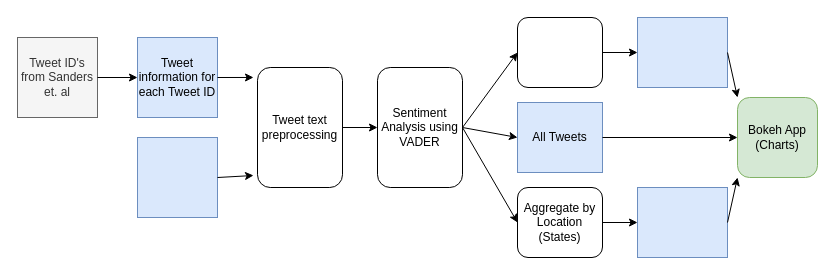
The diagram is 835 pixels wide and 275 high, and some of its shapes have lost their labels. Here are the shapes that lost their labels. From the top down, the centre of each, then its label:
At point 559,52: "Aggregate by Location (US)".
At point 682,52: "Aggregated by Location(US)".
At point 177,177: "Gathered Tweets from 12/15/20-12/20/20".
At point 682,222: "Aggregated by Location(States)".
